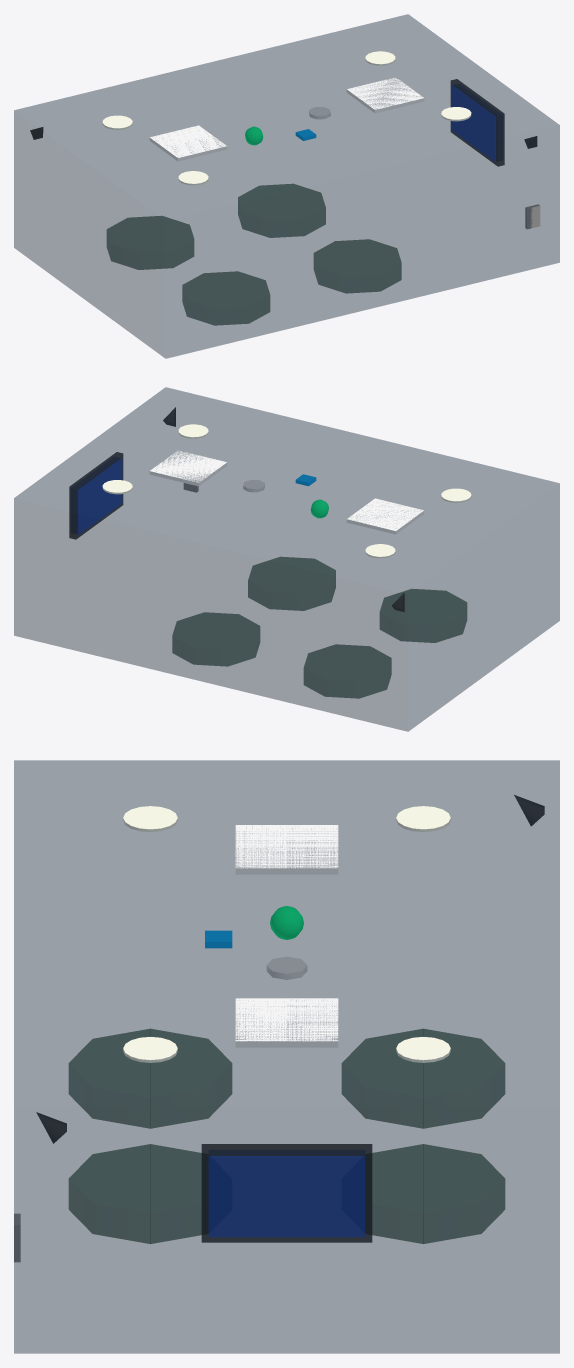
3 renders of one model, top to bottom at view 1: azimuth 30°, elevation 25°; view 2: azimuth 150°, elevation 25°; view 3: azimuth 270°, elevation 25°, orthographic. The views are drawn at different scales.
Visible parts, largest first — view 1: Arch:WALL_L1-T2, object 4, object 3, object 5, object 2, object 6, object 7, Device:AC1_L1-T2, Device:AC2_L1-T2; view 2: Arch:WALL_L1-T2, object 5, object 2, object 4, object 3, object 6, object 7, Device:AC1_L1-T2, Device:AC2_L1-T2; view 3: Arch:WALL_L1-T2, object 6, object 7, object 2, object 3, object 4, object 5, Device:AC1_L1-T2, Device:AC2_L1-T2, Device:LIGHT1_L1-T2, Device:LIGHT3_L1-T2, Device:LIGHT2_L1-T2 (+3 smaller).
Boxes of the visible parts, x1,y1,x2,y2 form: Arch:WALL_L1-T2: (14, 14, 559, 358); object 4: (238, 184, 325, 237); object 3: (182, 271, 269, 325); object 5: (314, 239, 401, 293); object 2: (107, 216, 193, 269); object 6: (450, 79, 504, 166); object 7: (452, 85, 495, 161); Device:AC1_L1-T2: (149, 125, 227, 161); Device:AC2_L1-T2: (346, 77, 424, 113); Arch:WALL_L1-T2: (14, 387, 559, 731); object 5: (248, 557, 335, 610); object 2: (304, 644, 391, 698); object 4: (172, 612, 259, 666); object 3: (380, 589, 466, 642); object 6: (69, 452, 123, 539); object 7: (78, 458, 121, 534); Device:AC1_L1-T2: (346, 498, 424, 534); Device:AC2_L1-T2: (149, 450, 227, 486); Arch:WALL_L1-T2: (14, 760, 559, 1353); object 6: (201, 1144, 372, 1242); object 7: (209, 1156, 364, 1236); object 2: (342, 1029, 504, 1128); object 3: (69, 1029, 231, 1128); object 4: (372, 1144, 504, 1243); object 5: (69, 1144, 201, 1243); Device:AC1_L1-T2: (235, 825, 338, 874); Device:AC2_L1-T2: (235, 998, 338, 1047); Device:LIGHT1_L1-T2: (396, 806, 450, 832); Device:LIGHT3_L1-T2: (123, 806, 177, 832); Device:LIGHT2_L1-T2: (396, 1037, 450, 1062).
Bounding box in the file's own units: 12 × 4.01 × 8.
